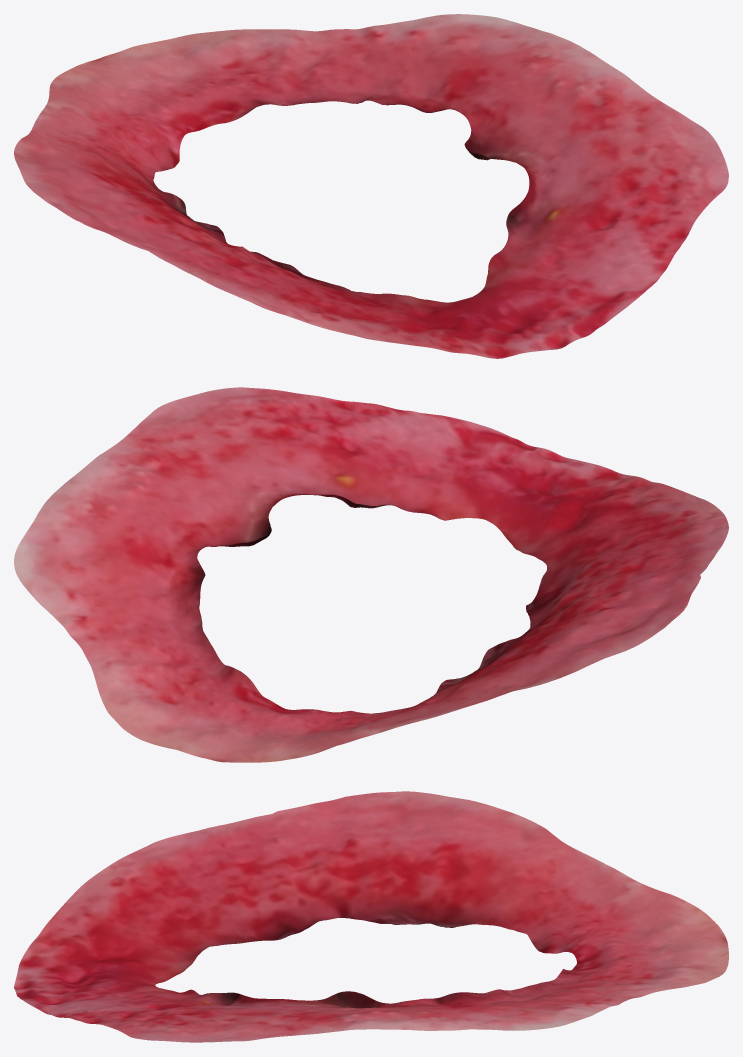
Rendered from StomaMaceracijaMaceracija.fbx.
3 renders of one model, top to bottom at view 1: azimuth 30°, elevation 25°; view 2: azimuth 150°, elevation 25°; view 3: azimuth 270°, elevation 25°, orthographic. The views are drawn at different scales.
Parts seen in each view (by area): view 1: StomaMaderacijaMaceracija; view 2: StomaMaderacijaMaceracija; view 3: StomaMaderacijaMaceracija.
Boxes of the visible parts, x1,y1,x2,y2 form: StomaMaderacijaMaceracija: [14, 14, 728, 358]; StomaMaderacijaMaceracija: [14, 387, 728, 762]; StomaMaderacijaMaceracija: [14, 791, 728, 1042].
Size of the model in its own units: 88.08 by 12.43 by 106.
Materials: 1 (1 with a texture image).
